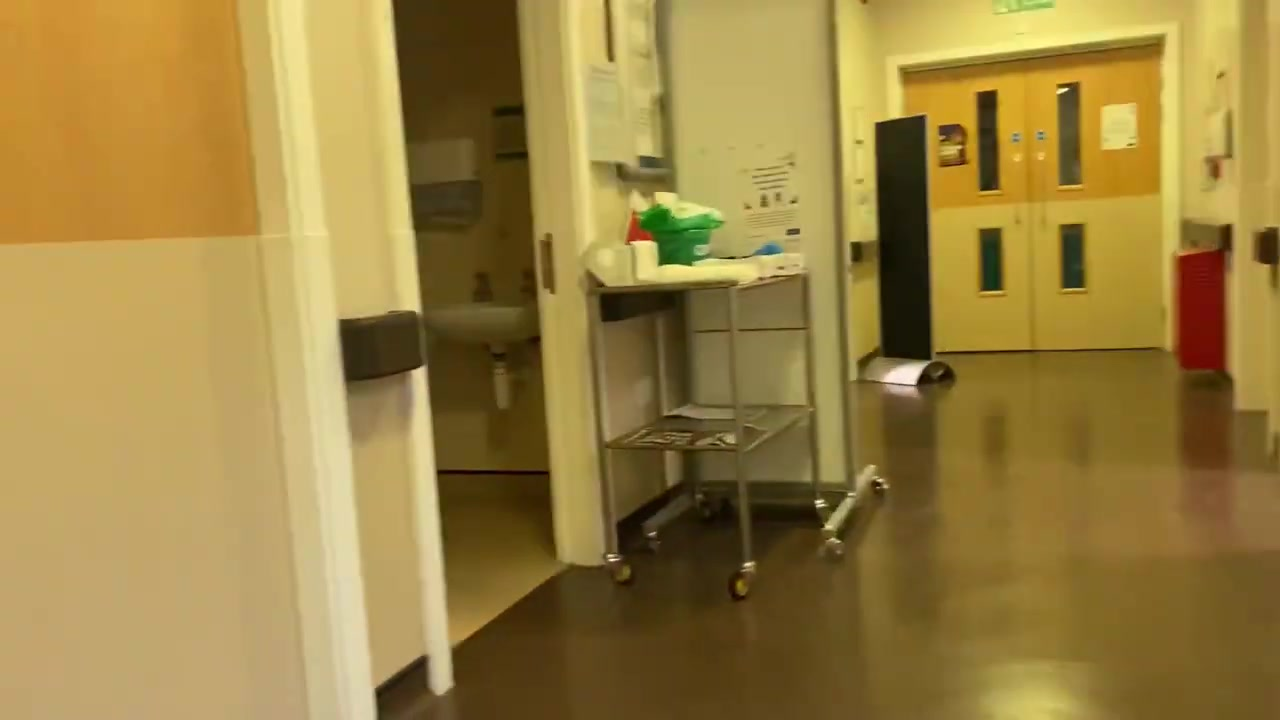dispenser: (407, 136, 480, 225), (1209, 107, 1233, 156)
door_handle: (1035, 150, 1050, 230), (1011, 152, 1025, 225)
faucet: (464, 271, 498, 304), (515, 263, 538, 300)
hallway_assist_bar: (339, 310, 425, 385), (1180, 217, 1233, 251)
sink: (428, 304, 538, 353)
utility_cart: (588, 251, 832, 601)
